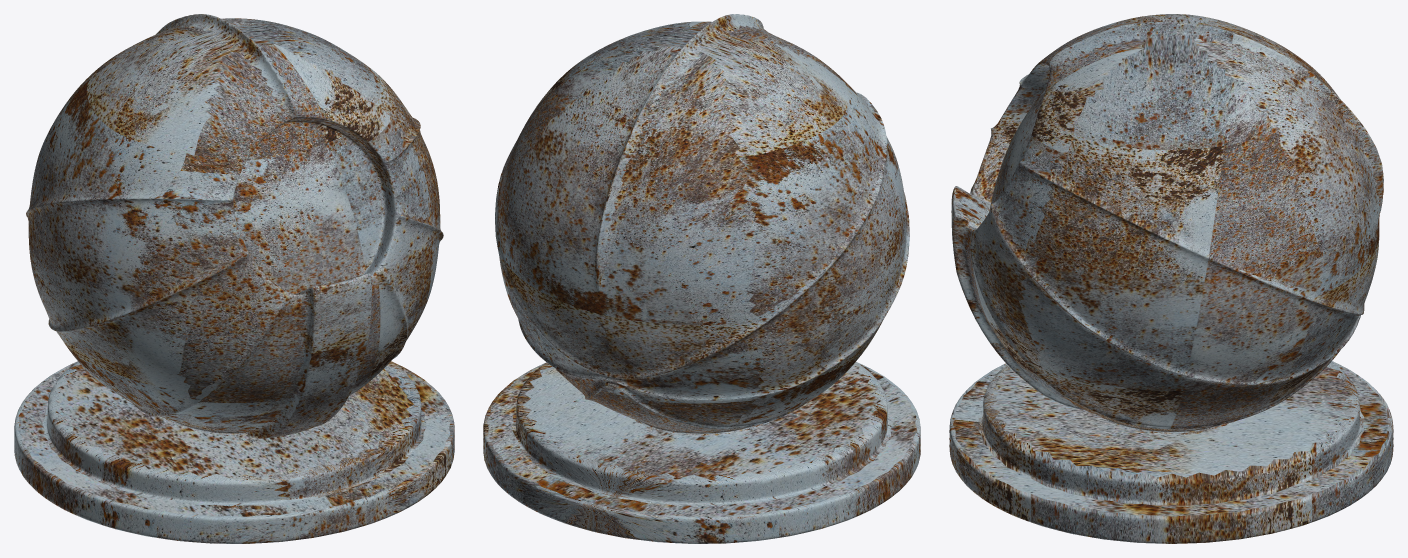
The model's file is Sphere_Rust.fbx.
3 renders of one model, left to right at view 1: azimuth 30°, elevation 25°; view 2: azimuth 150°, elevation 25°; view 3: azimuth 270°, elevation 25°, orthographic.
Visible parts, largest first — view 1: Cylinder; view 2: Cylinder; view 3: Cylinder.
Boxes of the visible parts, x1,y1,x2,y2 form: Cylinder: (14, 14, 454, 543); Cylinder: (483, 14, 920, 543); Cylinder: (949, 14, 1393, 543).
Bounding box in the file's own units: 1.97 × 2.1 × 1.97.
1 material, 1 textured.
